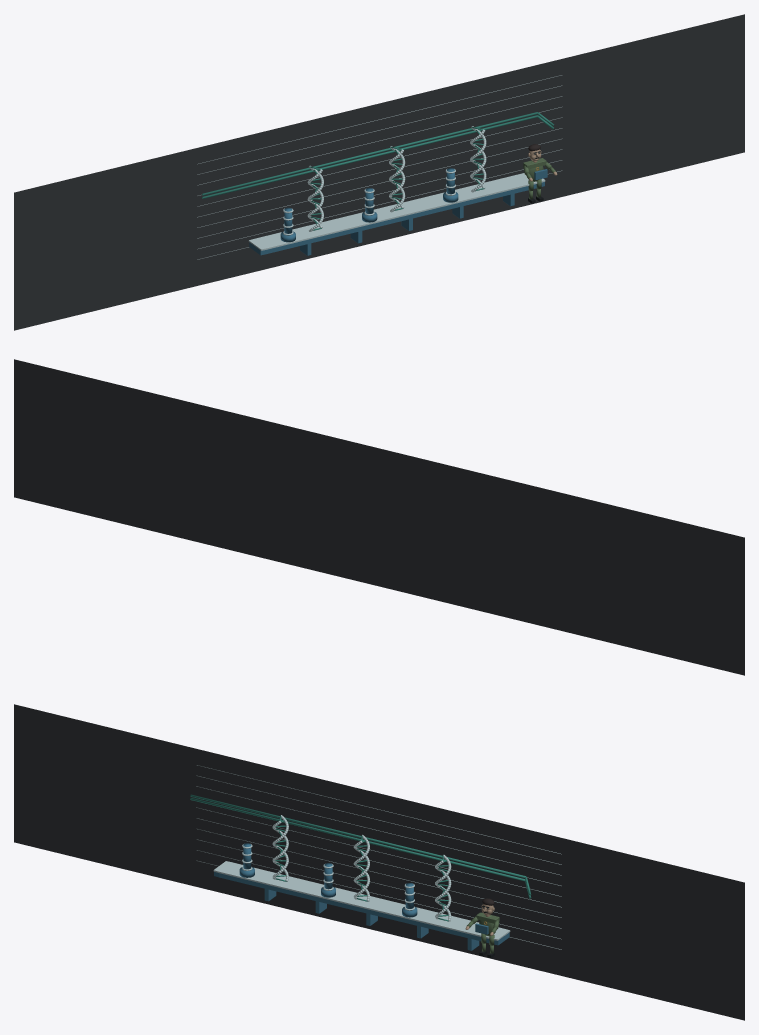
The picture shows the model from 3 angles, top to bottom: view 1: azimuth 30°, elevation 25°; view 2: azimuth 150°, elevation 25°; view 3: azimuth 330°, elevation 25°; orthographic projection.
Visible parts, largest first — view 1: P / lab rear wall, P / bench pale worktop, P / long laboratory bench, P / overhead conduit.001, P / overhead conduit; view 2: P / lab rear wall; view 3: P / lab rear wall, P / bench pale worktop, P / long laboratory bench, P / overhead conduit, P / overhead conduit.001.
Part boxes in pixels (x1,y1,x2,y2): P / lab rear wall: [14, 14, 744, 330]; P / bench pale worktop: [248, 173, 545, 250]; P / long laboratory bench: [249, 182, 544, 255]; P / overhead conduit.001: [202, 112, 537, 195]; P / overhead conduit: [202, 115, 537, 198]; P / lab rear wall: [14, 359, 744, 675]; P / lab rear wall: [14, 704, 744, 1020]; P / bench pale worktop: [213, 861, 510, 940]; P / long laboratory bench: [214, 872, 509, 945]; P / overhead conduit: [190, 797, 525, 881]; P / overhead conduit.001: [190, 794, 525, 878].
Bounding box in the file's own units: 72 × 13 × 5.63.
